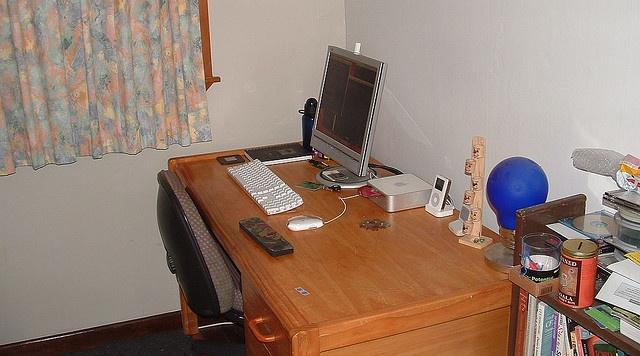AIO PC-Monitor-TV: (307, 44, 388, 189)
Meja: (168, 135, 516, 339)
